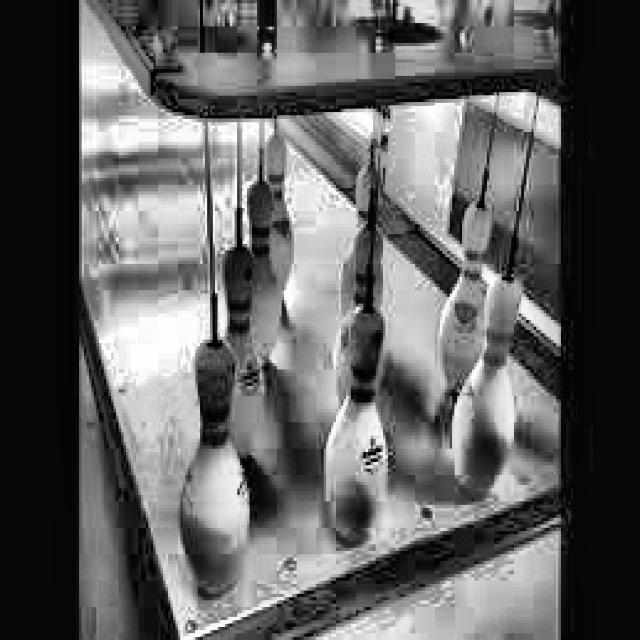bowling-pins: (183, 336, 250, 595), (326, 310, 388, 544), (455, 277, 521, 496), (440, 205, 494, 391), (225, 247, 264, 457), (336, 228, 376, 404), (250, 181, 282, 361), (267, 122, 294, 312), (338, 247, 356, 319), (356, 168, 371, 247)
